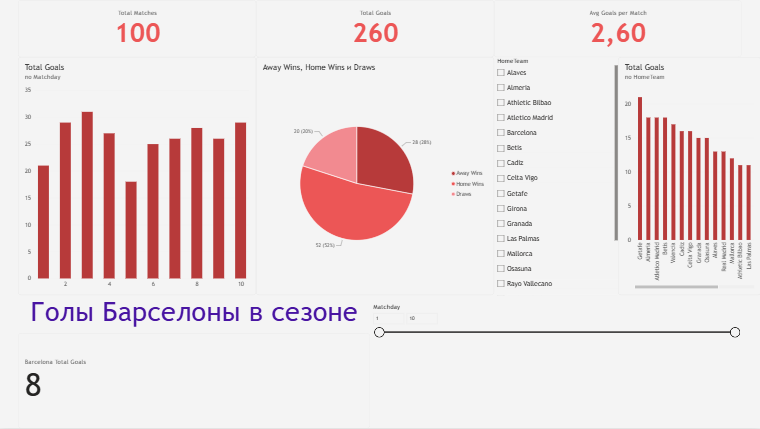

The page's visual inventory and layout, read from the dashboard file:
{"tool":"powerbi","page":{"name":"Страница 1","canvas":[1920,1080],"ordinal":0},"visuals":[{"type":"cardVisual","fields":{"Data":["LaLiga_Matches.Total Matches"]},"box":[48,0,600,144],"z":0},{"type":"cardVisual","fields":{"Data":["LaLiga_Matches.Total Goals"]},"box":[648,0,600,144],"z":1000},{"type":"cardVisual","fields":{"Data":["LaLiga_Matches.Avg Goals per Match"]},"box":[1248,0,624,144],"z":2000},{"type":"columnChart","fields":{"Category":["LaLiga_Matches.Matchday"],"Y":["LaLiga_Matches.Total Goals"]},"box":[48,144,600,600],"z":3000},{"type":"pieChart","fields":{"Y":["LaLiga_Matches.Away Wins","LaLiga_Matches.Home Wins","LaLiga_Matches.Draws"]},"box":[648,144,600,600],"z":3001},{"type":"cardVisual","title":"Голы Барселоны в сезоне","fields":{"Data":["LaLiga_Matches.Barcelona Total Goals"]},"box":[48,744,888,336],"z":3002},{"type":"columnChart","fields":{"Category":["LaLiga_Matches.HomeTeam"],"Y":["LaLiga_Matches.Total Goals"]},"box":[1560,144,360,600],"z":3003},{"type":"slicer","fields":{"Values":["LaLiga_Matches.HomeTeam"]},"box":[1248,144,312,600],"z":3004},{"type":"slicer","fields":{"Values":["LaLiga_Matches.Matchday"]},"box":[936,744,936,336],"z":3005}]}

Visuals, with their boxes in screenshot pixels (x1, y1, x2, y2), scaled from the page's 1920x1080 canvas onto the 760x429 screenshot:
cardVisual - LaLiga_Matches.Total Matches: crop(19, 0, 256, 57)
cardVisual - LaLiga_Matches.Total Goals: crop(256, 0, 494, 57)
cardVisual - LaLiga_Matches.Avg Goals per Match: crop(494, 0, 741, 57)
columnChart - LaLiga_Matches.Matchday x LaLiga_Matches.Total Goals: crop(19, 57, 256, 296)
pieChart - LaLiga_Matches.Away Wins x LaLiga_Matches.Home Wins: crop(256, 57, 494, 296)
"Голы Барселоны в сезоне" cardVisual: crop(19, 296, 370, 428)
columnChart - LaLiga_Matches.HomeTeam x LaLiga_Matches.Total Goals: crop(618, 57, 759, 296)
slicer - LaLiga_Matches.HomeTeam: crop(494, 57, 618, 296)
slicer - LaLiga_Matches.Matchday: crop(370, 296, 741, 428)
